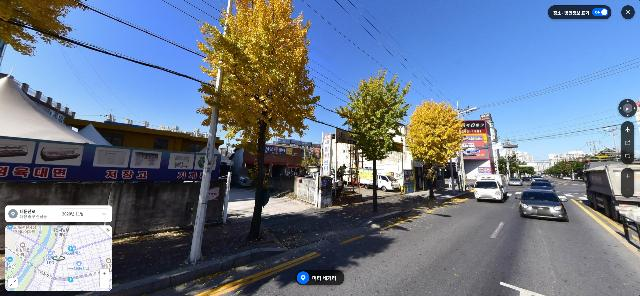ginkgo: (195, 0, 321, 240), (405, 98, 470, 198), (0, 0, 82, 59)
other: (333, 68, 412, 213), (499, 154, 527, 174)
